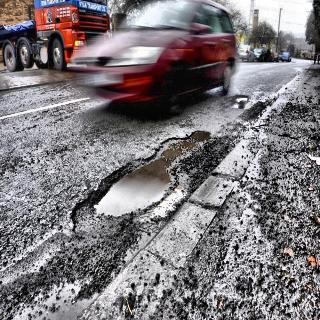pothole: (79, 122, 222, 230), (299, 124, 320, 186), (226, 87, 252, 117)
